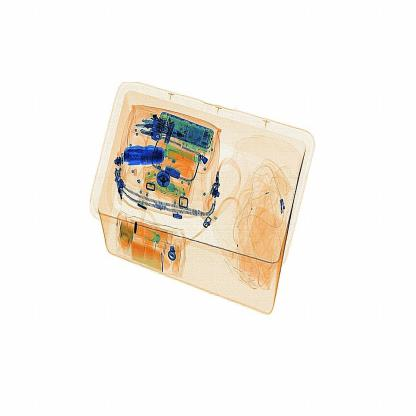scissors: (117, 134, 180, 164)
